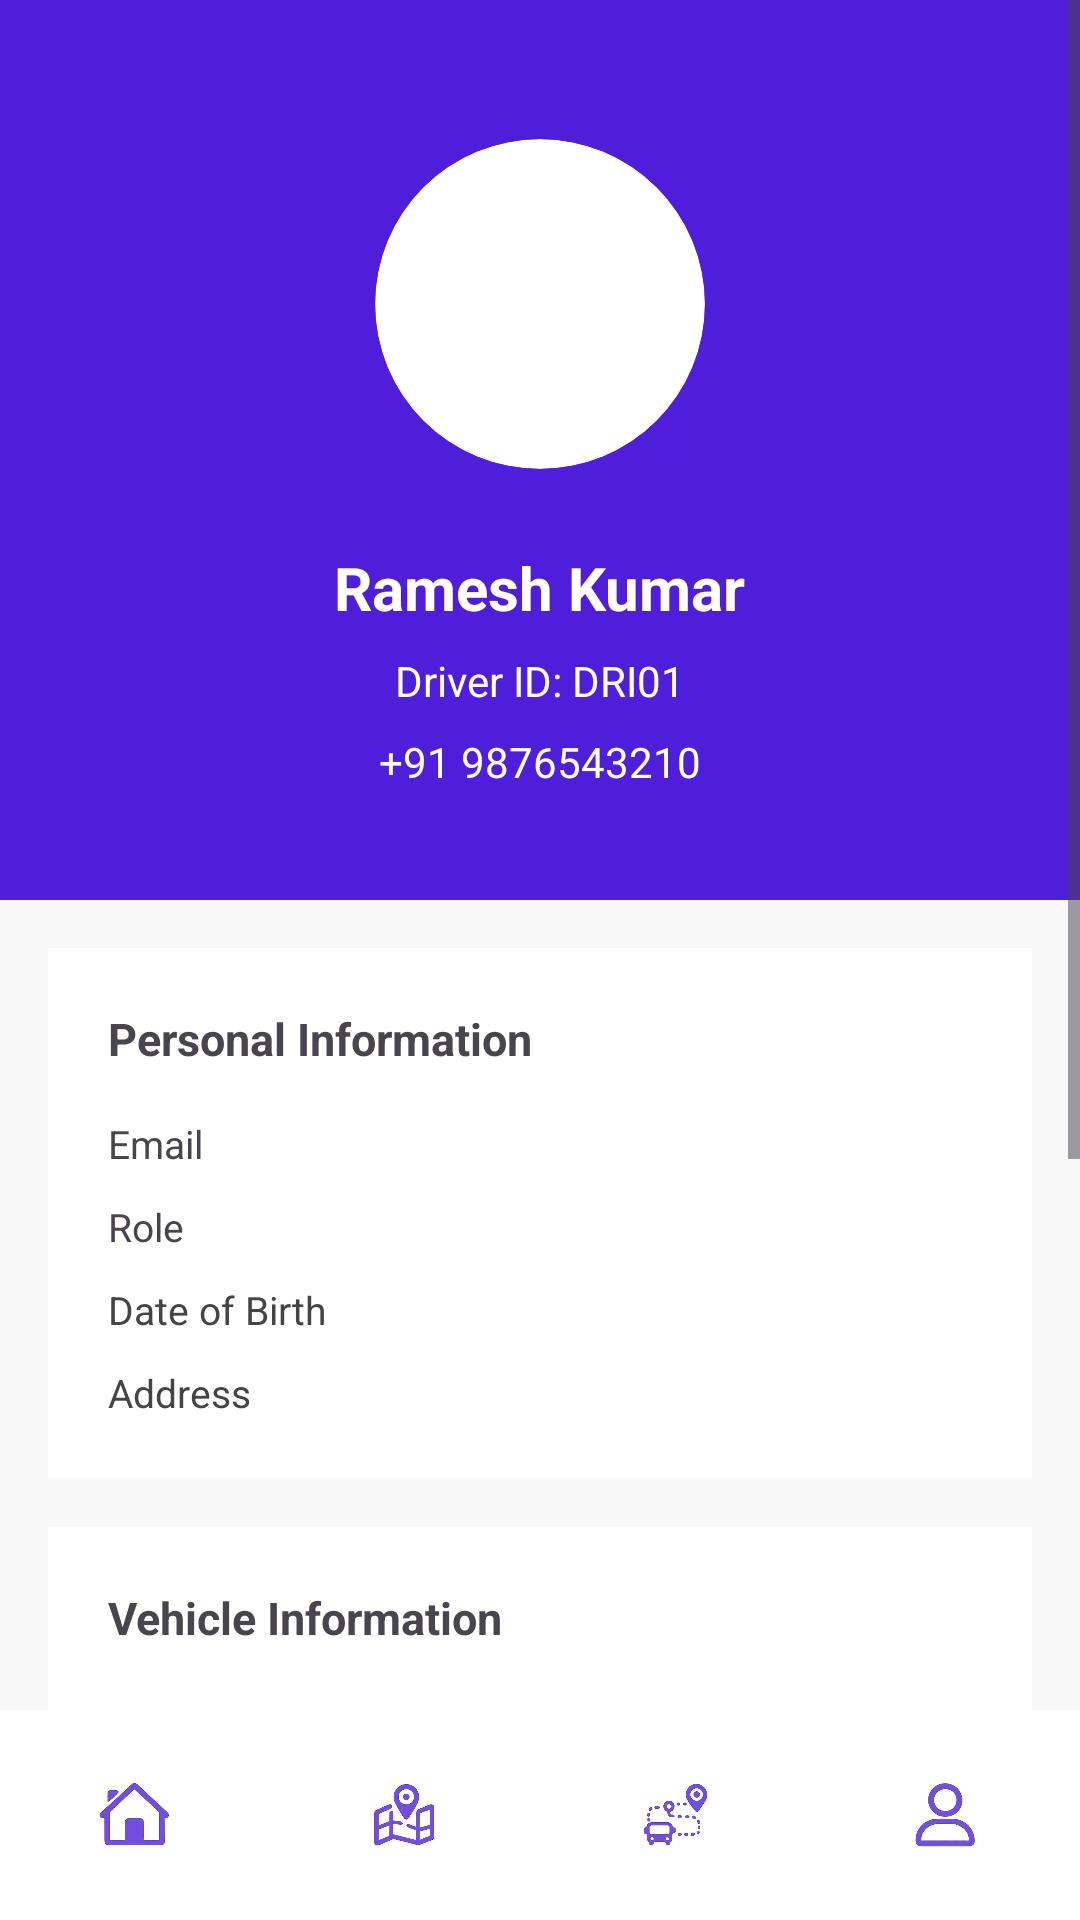

Where icons sit on this 1080 × 1920 app screen, as (x1, y1, x2, y2):
home: (99, 1783, 169, 1845)
map: (374, 1784, 434, 1846)
profile: (915, 1783, 975, 1847)
routes: (643, 1784, 707, 1846)
